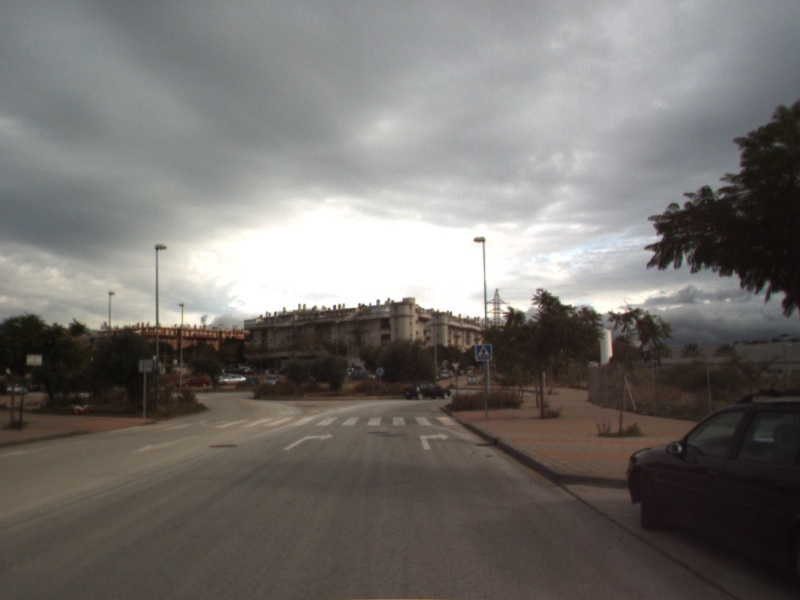RIGHT: (282, 430, 336, 452), (418, 430, 452, 452)
